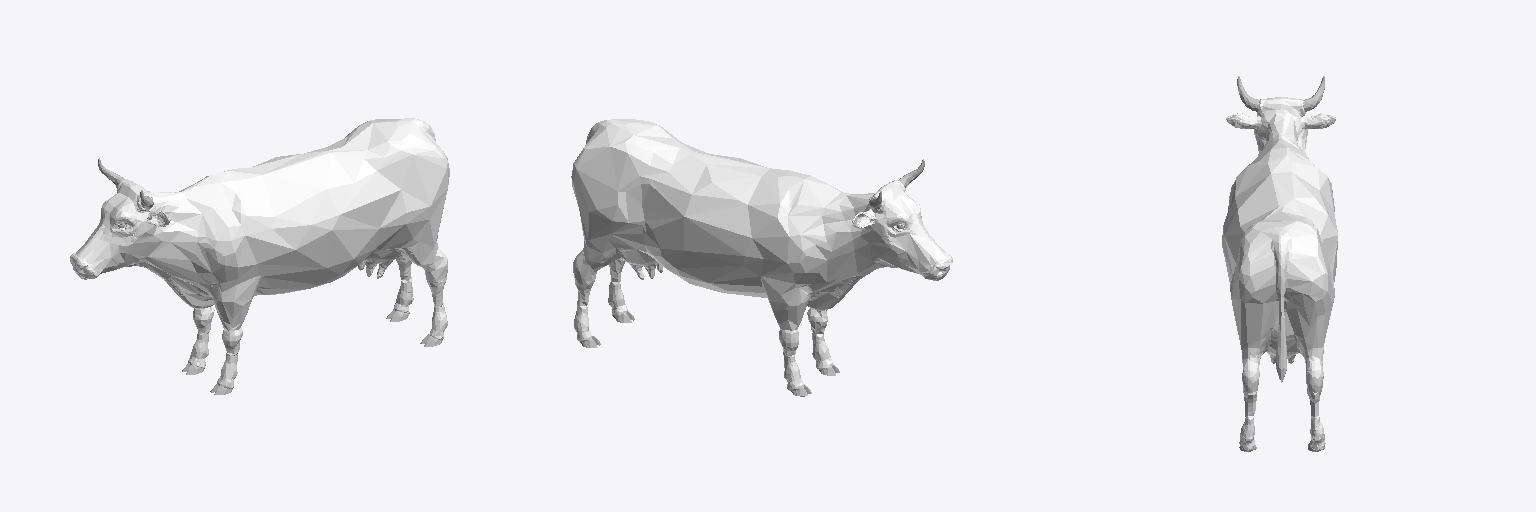
The model's file is cow.obj.
3 renders of one model, left to right at view 1: azimuth 30°, elevation 25°; view 2: azimuth 150°, elevation 25°; view 3: azimuth 270°, elevation 25°, orthographic.
Parts seen in each view (by area): view 1: COWSKIN, COWPEZU; view 2: COWSKIN, COWPEZU; view 3: COWSKIN, COWCUERN.
Part boxes in pixels (bbox=[...]): COWSKIN: bbox=[70, 118, 449, 388]; COWPEZU: bbox=[182, 309, 442, 394]; COWSKIN: bbox=[571, 119, 952, 391]; COWPEZU: bbox=[580, 311, 839, 396]; COWSKIN: bbox=[1222, 97, 1337, 449]; COWCUERN: bbox=[1237, 76, 1324, 111].
Size of the model in its own units: 22.92 by 13.74 by 6.36.